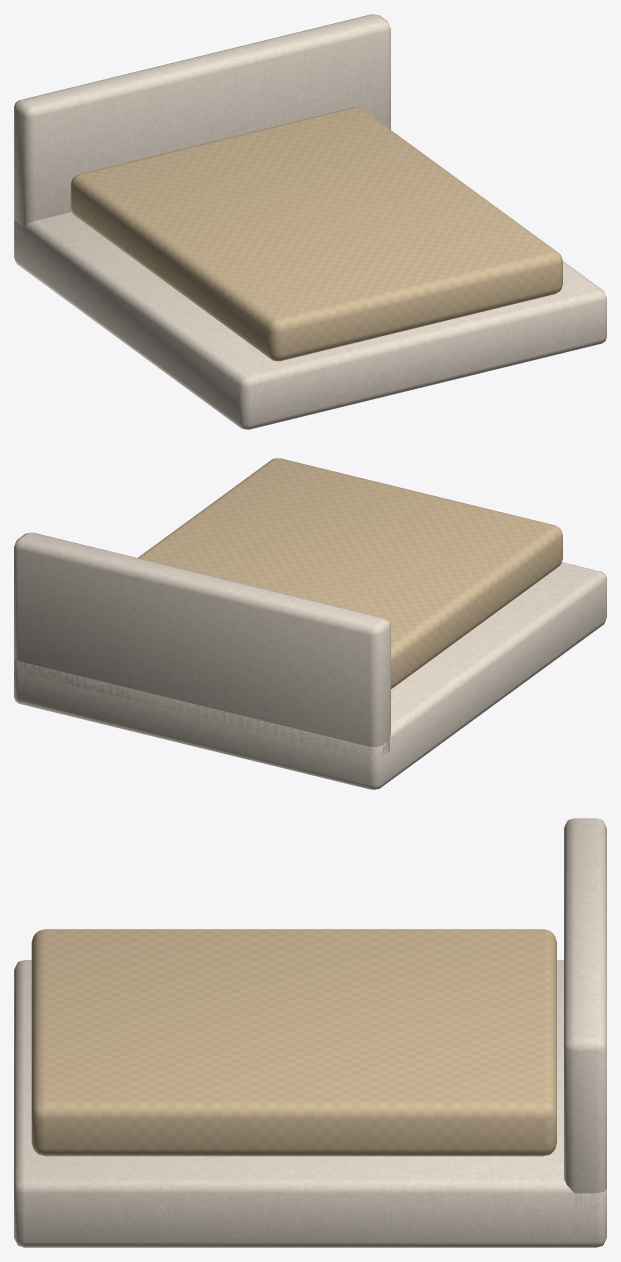
The model's file is modern_bed_01.glb.
The picture shows the model from 3 angles, top to bottom: view 1: azimuth 30°, elevation 25°; view 2: azimuth 150°, elevation 25°; view 3: azimuth 270°, elevation 25°; orthographic projection. The views are drawn at different scales.
Parts seen in each view (by area): view 1: modern_bed_01; view 2: modern_bed_01; view 3: modern_bed_01.
Part boxes in pixels (<box>): modern_bed_01: <box>14,14,606,429</box>; modern_bed_01: <box>14,458,606,789</box>; modern_bed_01: <box>14,818,606,1247</box>.
Bounding box in the file's own units: 2 × 0.86 × 2.2.
Materials: 2 (2 with a texture image).
